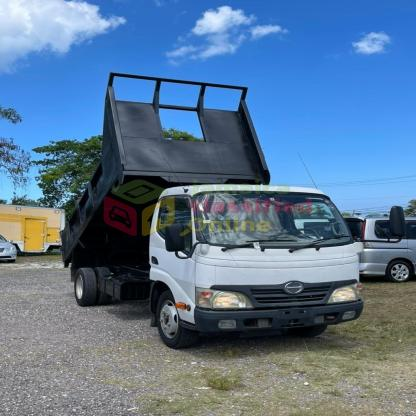dump_truck: (54, 63, 372, 352)
